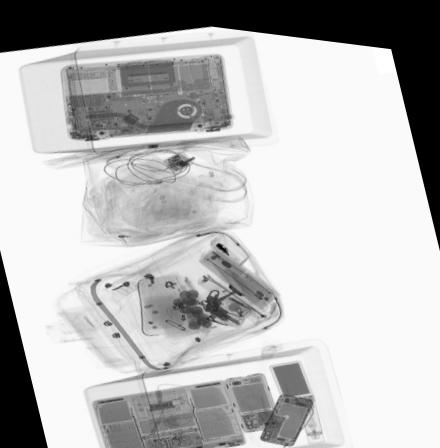Powerbank: (267, 350, 315, 401)
